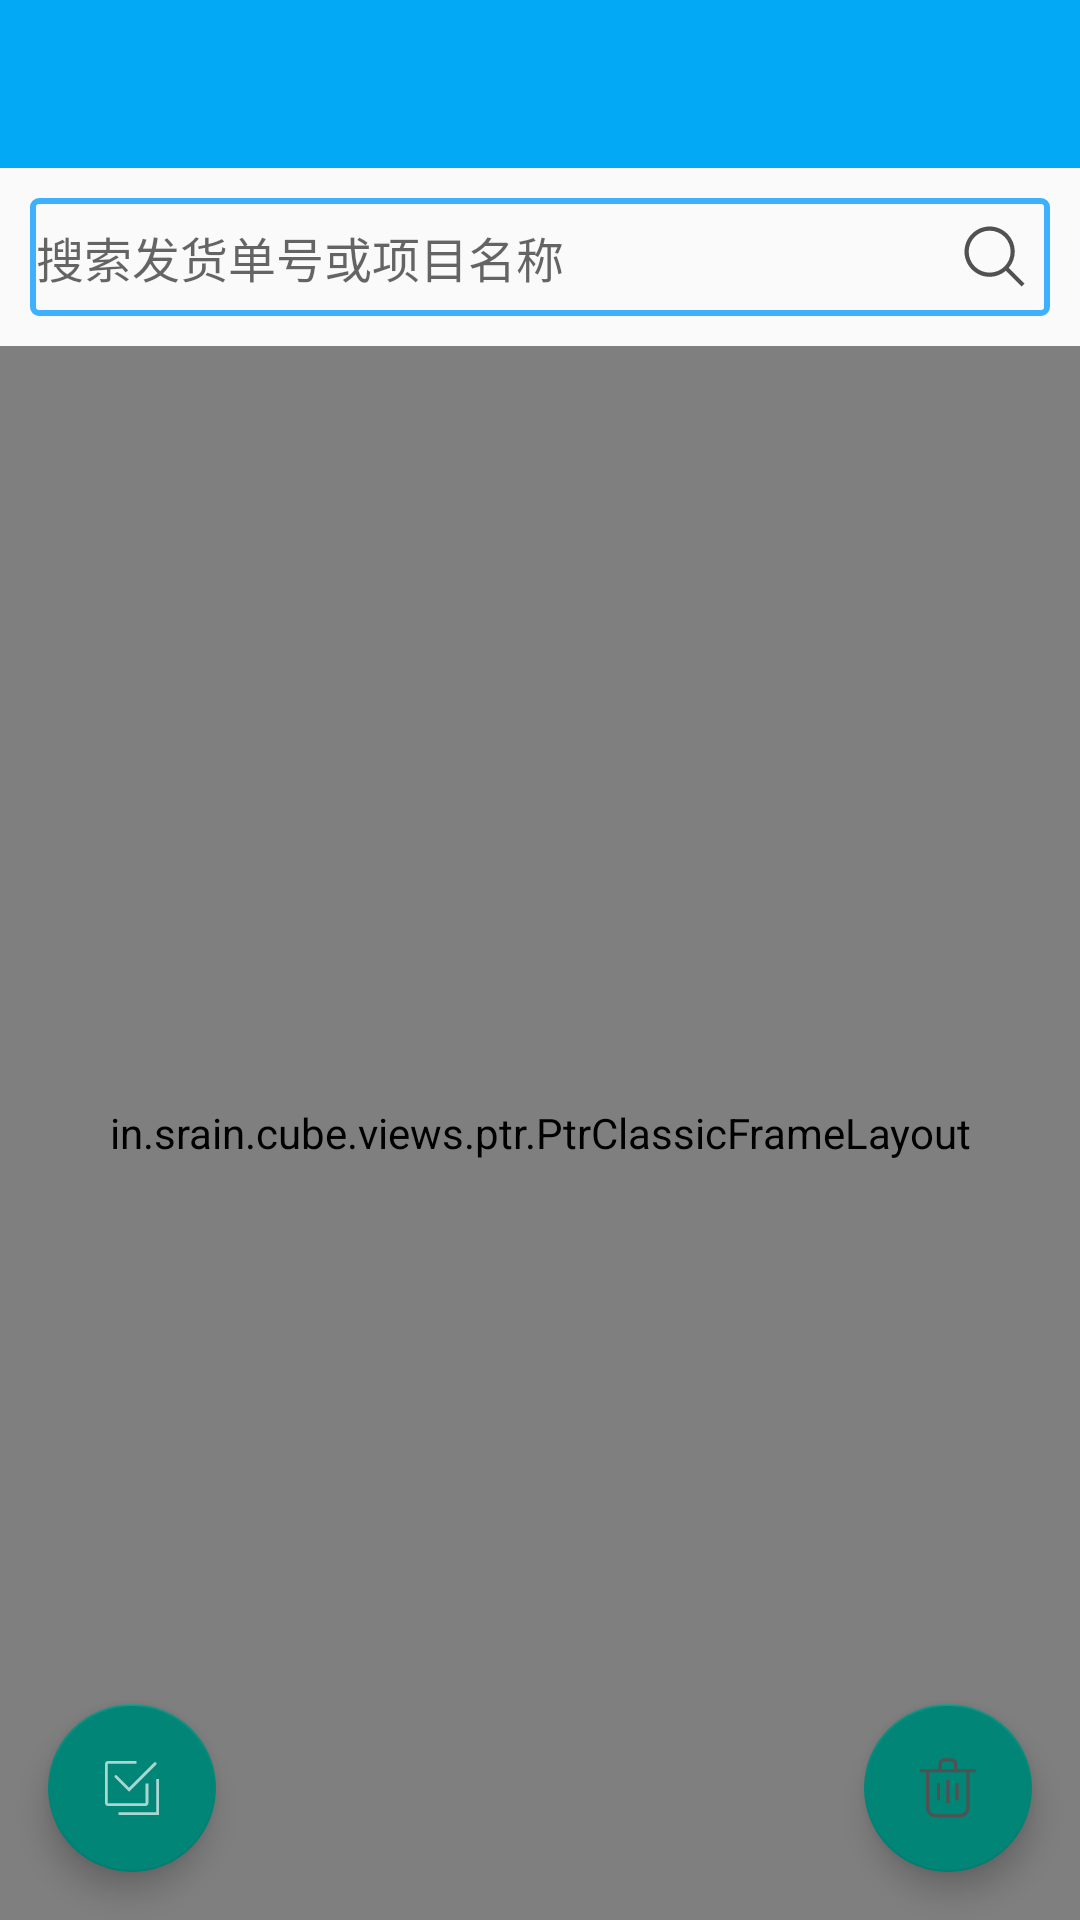

Screen size 1080px×1920px. Icon name, then its center in pixels as (x,y):
choose all: (132,1788)
proline del: (948,1788)
search: (994,256)
